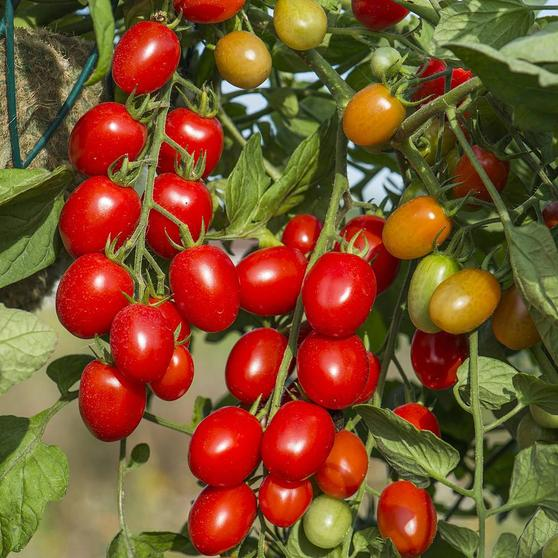tomato: (65, 167, 142, 258), (56, 255, 138, 336), (71, 93, 153, 173), (189, 397, 262, 484), (303, 245, 374, 334), (263, 400, 336, 481), (174, 245, 239, 333), (238, 242, 299, 312)
